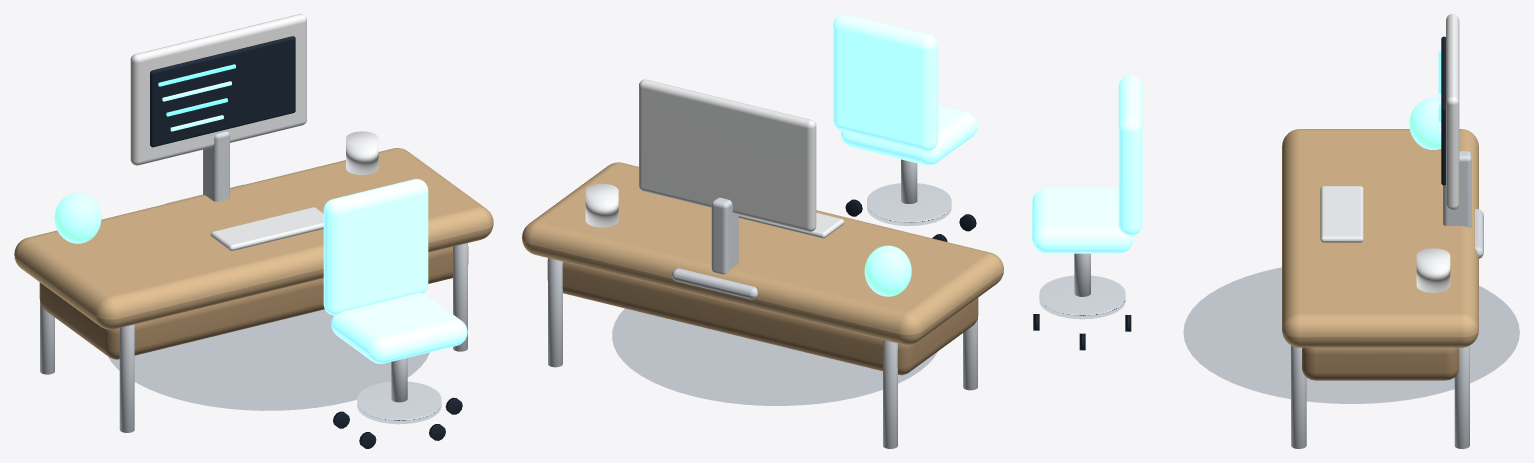
Rendered from desk.glb.
3 renders of one model, left to right at view 1: azimuth 30°, elevation 25°; view 2: azimuth 150°, elevation 25°; view 3: azimuth 270°, elevation 25°, orthographic. The views are drawn at different scales.
Parts seen in each view (by area): view 1: desk_rounded_top, desk_contact_shadow, desk_chair_chair_back, desk_screen_monitor_screen, desk_soft_underside, desk_screen_monitor_frame, desk_chair_chair_seat, desk_chair_chair_base, desk_keyboard, desk_plant, desk_leg_-0.82_-0.22, desk_screen_monitor_stand (+4 smaller); view 2: desk_rounded_top, desk_screen_monitor_frame, desk_contact_shadow, desk_soft_underside, desk_chair_chair_back, desk_chair_chair_seat, desk_chair_chair_base, desk_plant, desk_screen_monitor_stand, desk_leg_0.82_0.46, desk_leg_-0.82_0.46, desk_mug (+4 smaller); view 3: desk_rounded_top, desk_contact_shadow, desk_chair_chair_seat, desk_soft_underside, desk_chair_chair_back, desk_chair_chair_base, desk_screen_monitor_frame, desk_keyboard, desk_leg_0.82_-0.22, desk_leg_0.82_0.46, desk_mug, desk_plant (+3 smaller).
Part boxes in pixels (box(x1,y1,x2,y2)): desk_rounded_top: box(14, 148, 493, 329); desk_contact_shadow: box(109, 309, 429, 410); desk_chair_chair_back: box(323, 179, 428, 315); desk_screen_monitor_screen: box(150, 36, 295, 147); desk_soft_underside: box(39, 246, 468, 359); desk_screen_monitor_frame: box(130, 14, 306, 165); desk_chair_chair_seat: box(331, 293, 467, 363); desk_chair_chair_base: box(357, 381, 441, 424); desk_keyboard: box(210, 207, 323, 250); desk_plant: box(54, 193, 101, 243); desk_leg_-0.82_-0.22: box(119, 324, 134, 432); desk_screen_monitor_stand: box(203, 132, 229, 201); desk_rounded_top: box(522, 162, 1003, 345); desk_screen_monitor_frame: box(639, 79, 816, 231); desk_contact_shadow: box(612, 309, 936, 405); desk_soft_underside: box(547, 260, 978, 375); desk_chair_chair_back: box(833, 14, 938, 151); desk_chair_chair_seat: box(840, 105, 977, 165); desk_chair_chair_base: box(867, 183, 951, 225); desk_plant: box(864, 245, 911, 296); desk_screen_monitor_stand: box(711, 197, 738, 274); desk_leg_0.82_0.46: box(548, 258, 562, 367); desk_leg_-0.82_0.46: box(883, 340, 897, 448); desk_mug: box(585, 183, 618, 227); desk_rounded_top: box(1282, 129, 1478, 347); desk_contact_shadow: box(1183, 267, 1519, 403); desk_chair_chair_seat: box(1032, 188, 1132, 253); desk_soft_underside: box(1302, 347, 1458, 380); desk_chair_chair_back: box(1118, 75, 1142, 235); desk_chair_chair_base: box(1039, 275, 1125, 319); desk_screen_monitor_frame: box(1446, 14, 1459, 210); desk_keyboard: box(1320, 186, 1363, 242); desk_leg_0.82_-0.22: box(1291, 345, 1306, 448); desk_leg_0.82_0.46: box(1454, 345, 1469, 448); desk_mug: box(1416, 248, 1450, 292); desk_plant: box(1409, 98, 1441, 149).
Size of the model in its own units: 1.95 by 1.41 by 2.03.
